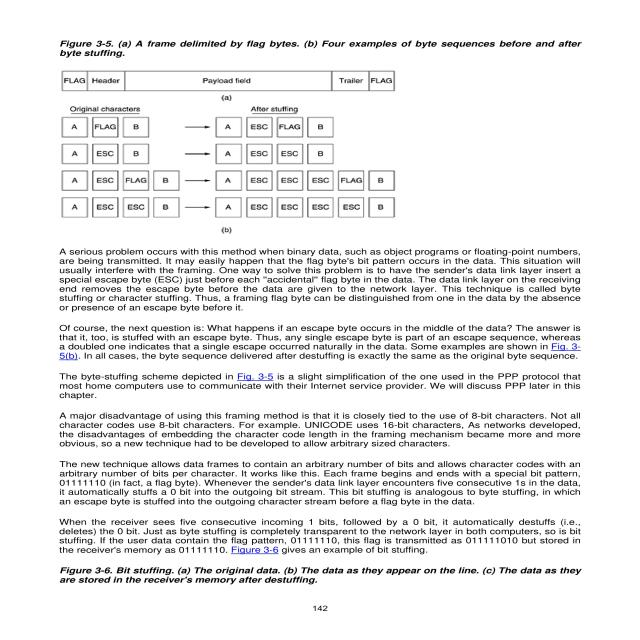diagram: (44, 33, 592, 236)
